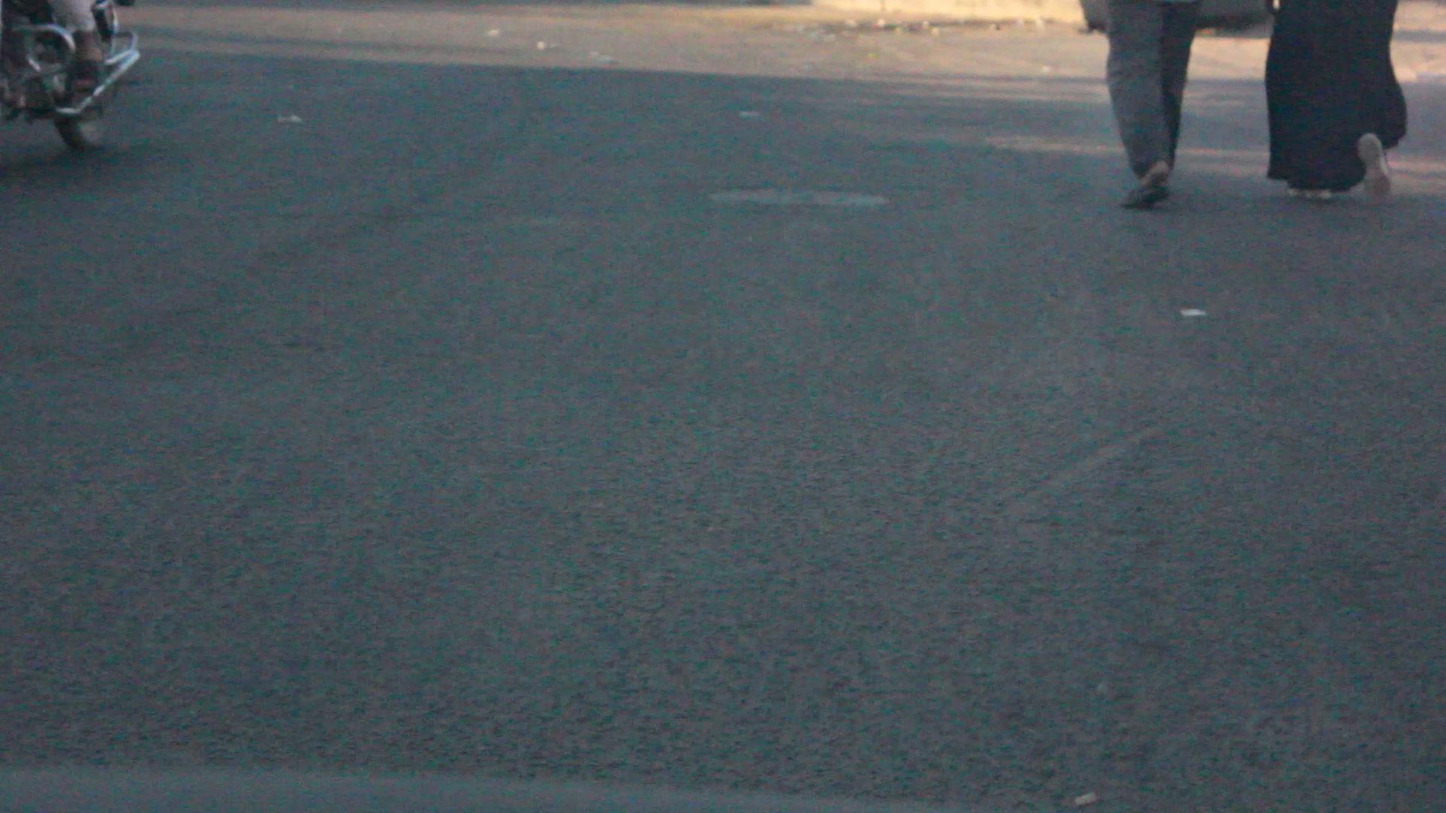Bump: (0, 375, 1446, 813)
